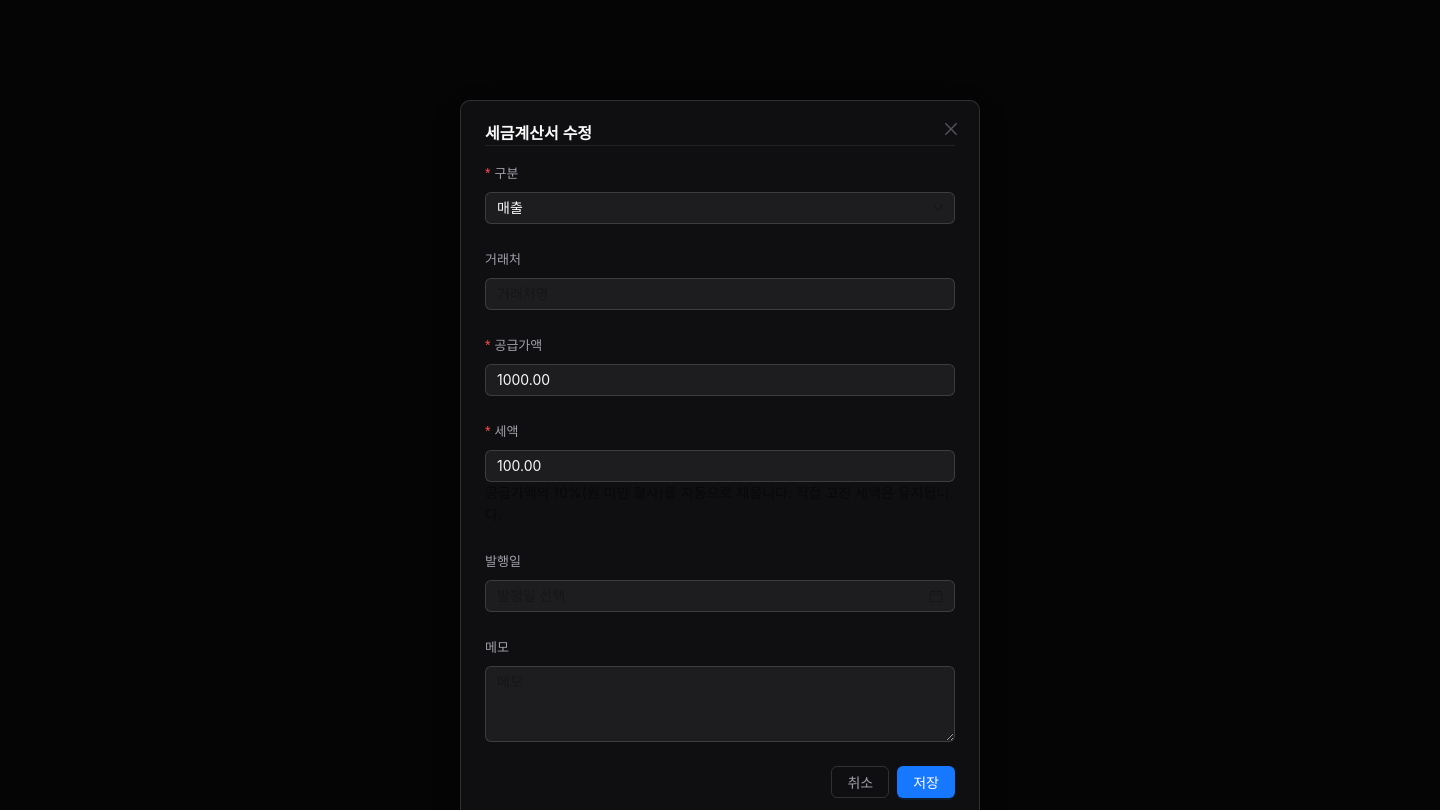
Test: TaxEditModal › DB 합계 범위를 넘는 값은 서버에 보내지 않는다
The width and height of the screenshot is (1440, 810).
Replace the text in the number field with placeholder "공급가액" with "9999999999999.99": (720, 380) 486,365 -> 954,395
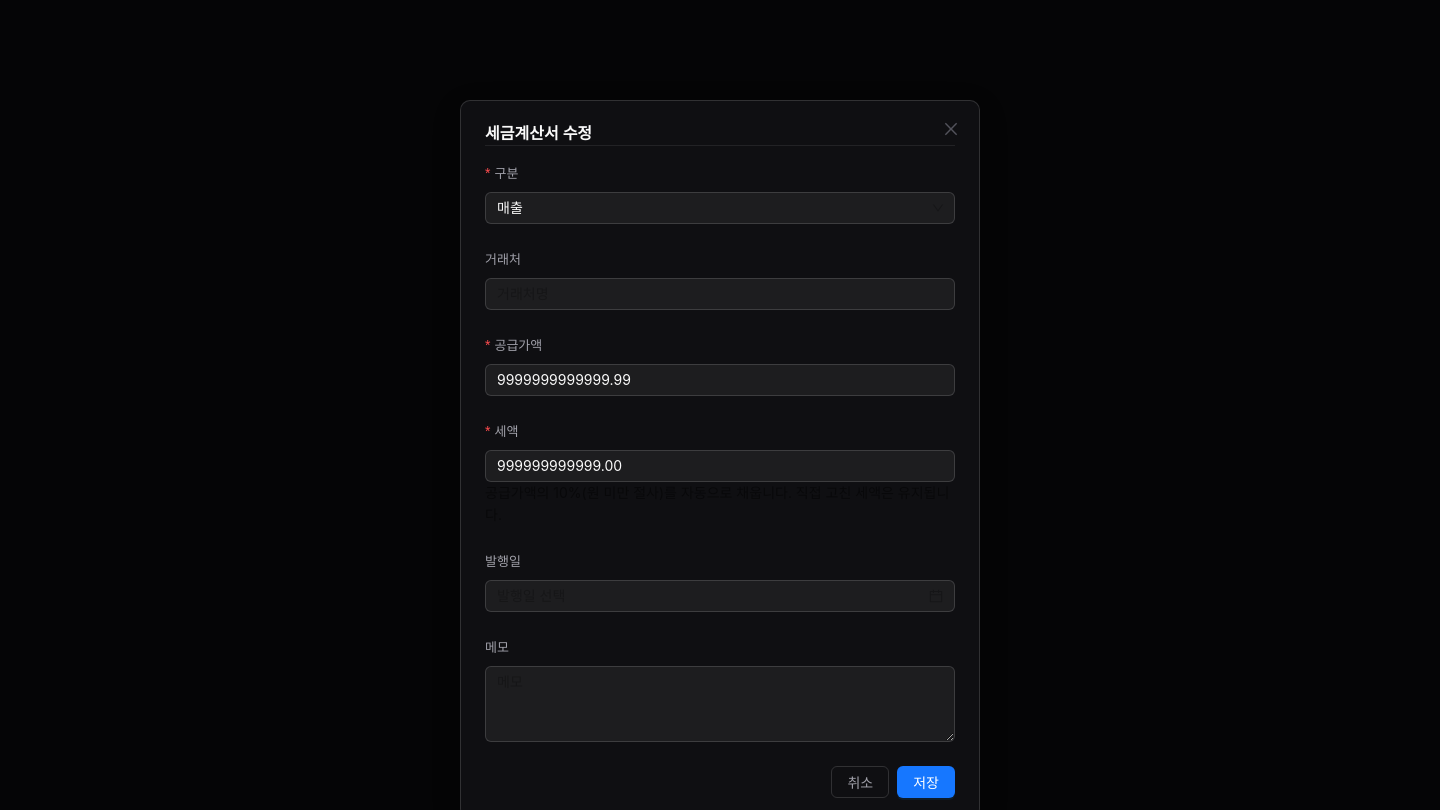
Replace the text in the number field with placeholder "세액" with "0.01": (720, 466) 486,451 -> 954,481
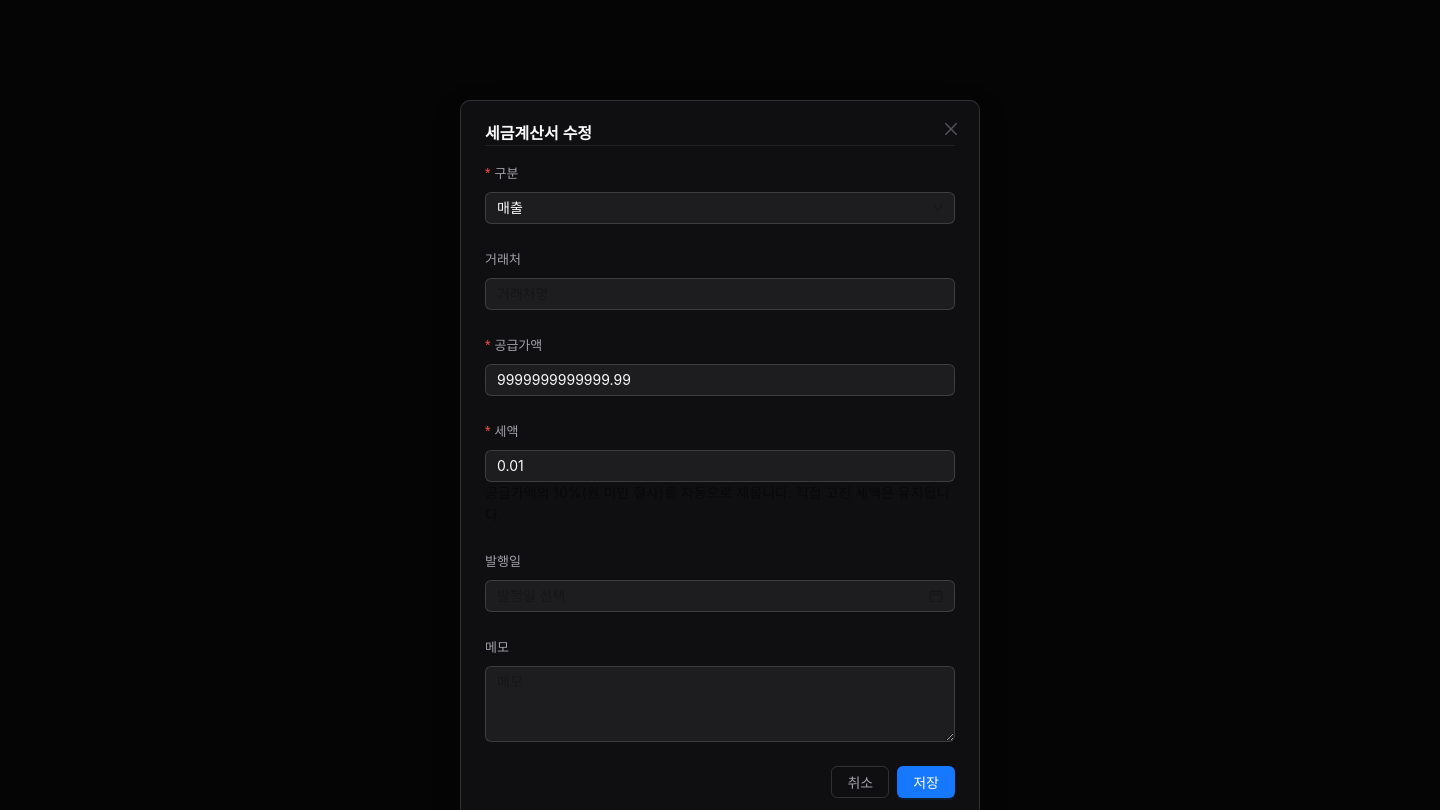
Click the button "저장": (926, 782) 897,766 -> 955,798
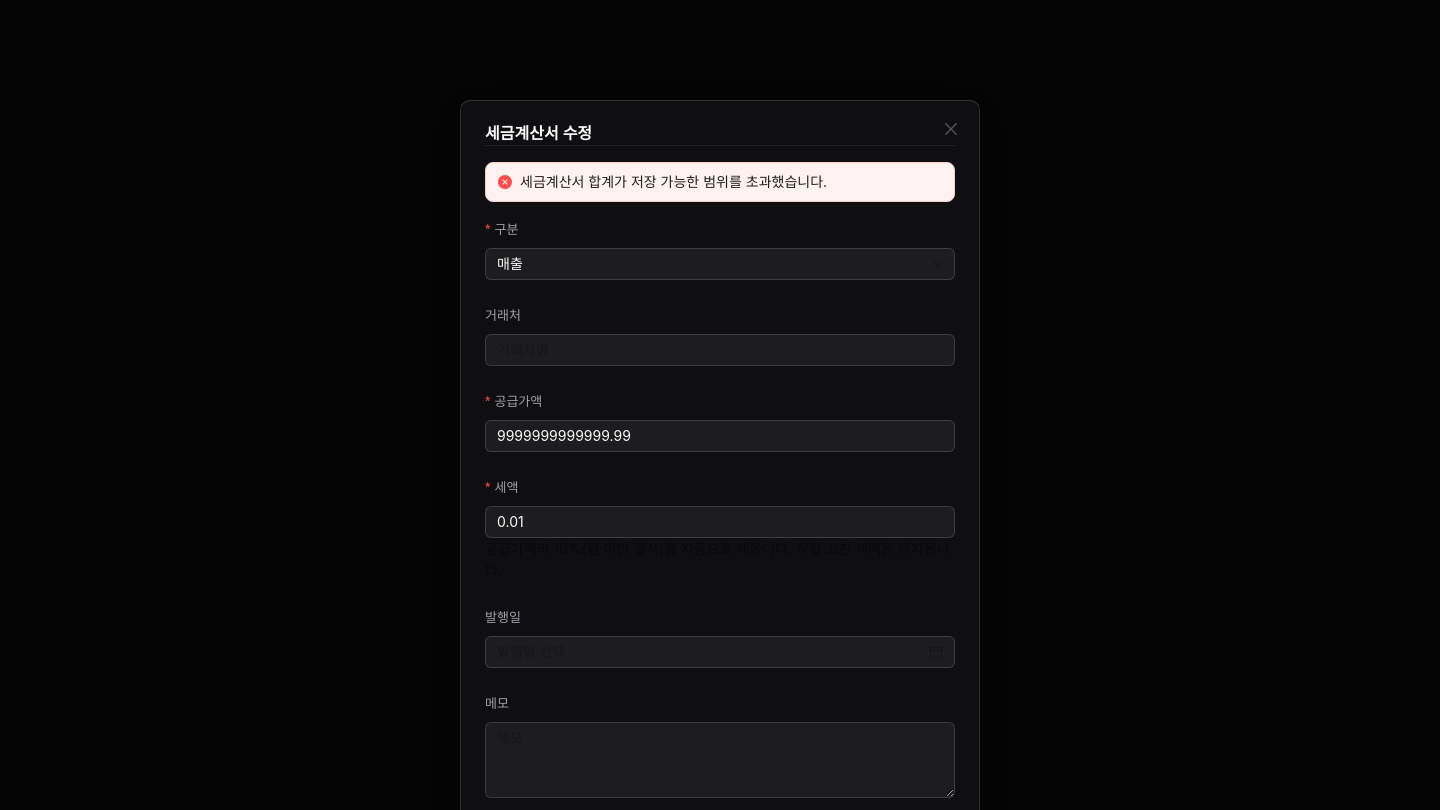
Now the text "세금계산서 합계가 저장 가능한 범위를 초과했습니다." is shown, box 520,173 -> 827,190
